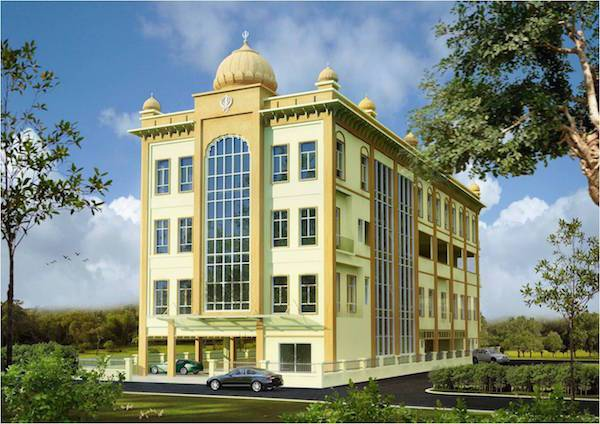Gurdwara: (121, 51, 476, 363)
